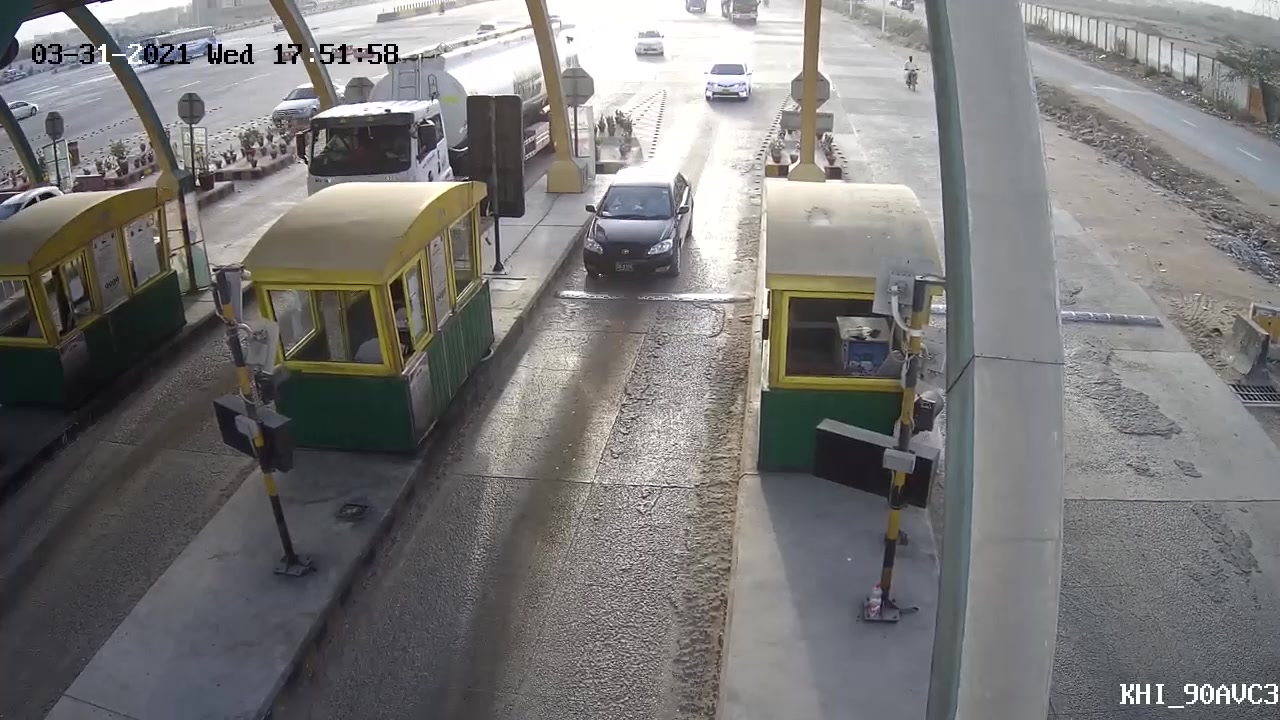F1: (573, 170, 694, 287)
